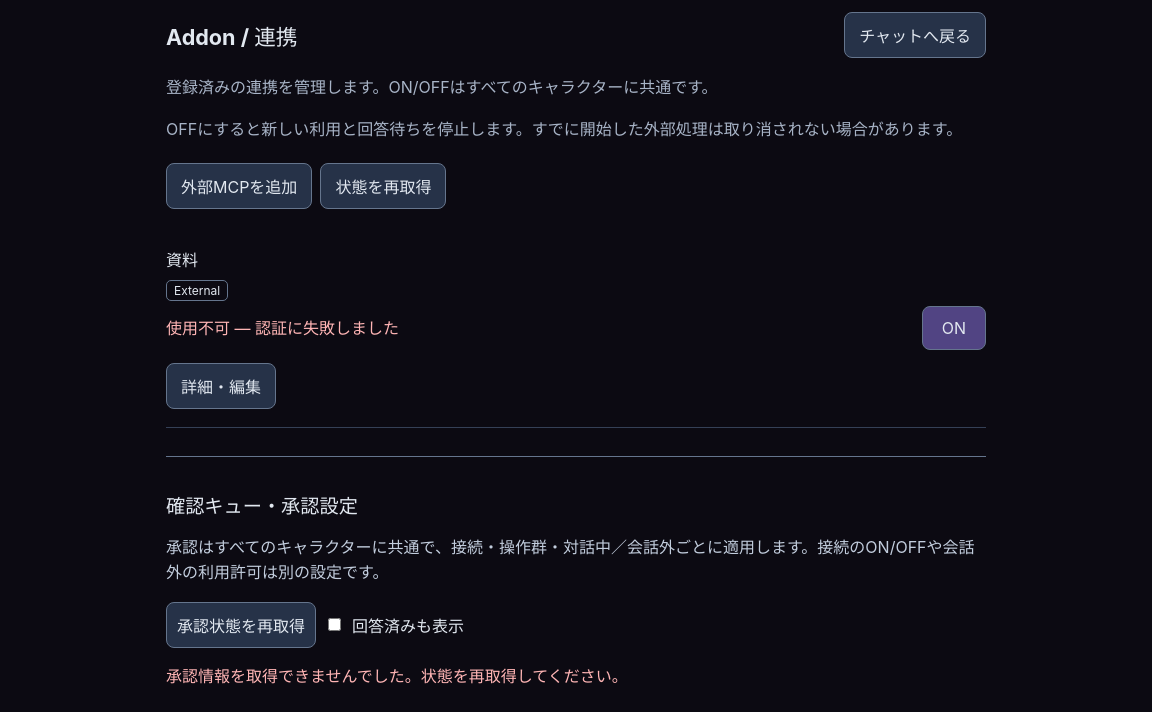
Scenario: 保存再試行ボタンは失敗した希望値をそのまま再送する
Click the switch named "資料を利用する" at [954, 328], box [922,306,986,350]
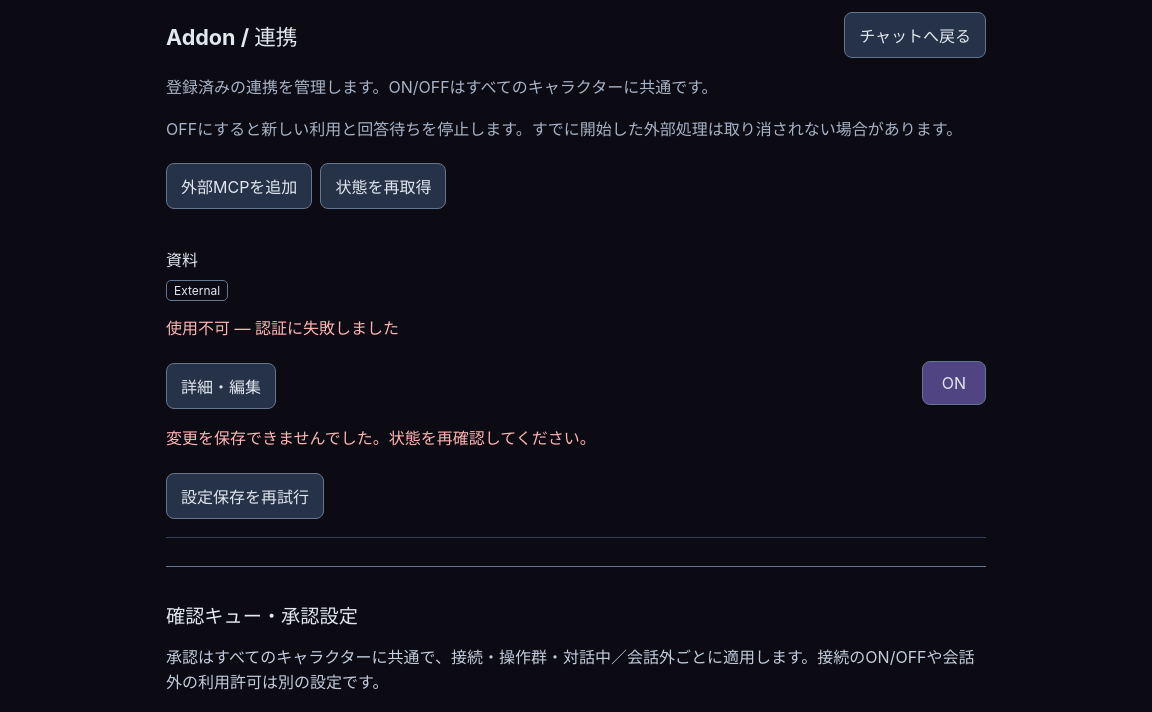
Click the button with aria-label "資料の設定保存を再試行" at [245, 496], box [166,473,324,519]
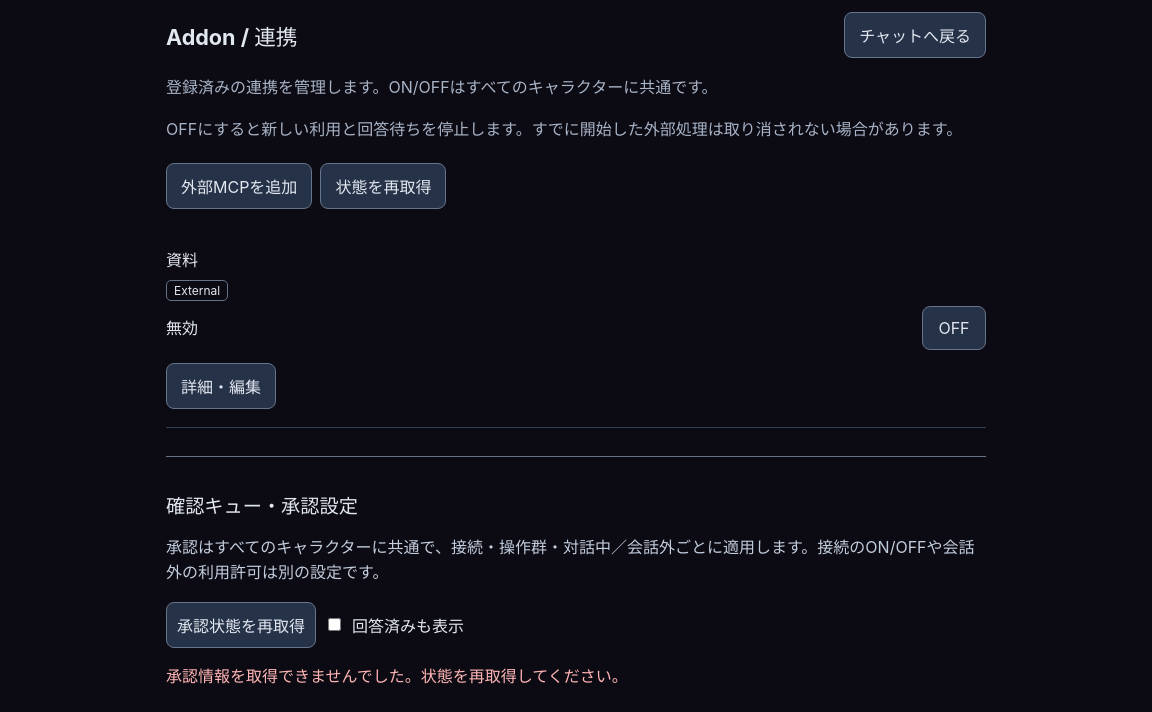
Check: the text "無効" is shown, box [166,318,198,338]
Check: the button "資料の設定保存を再試行" is gone
